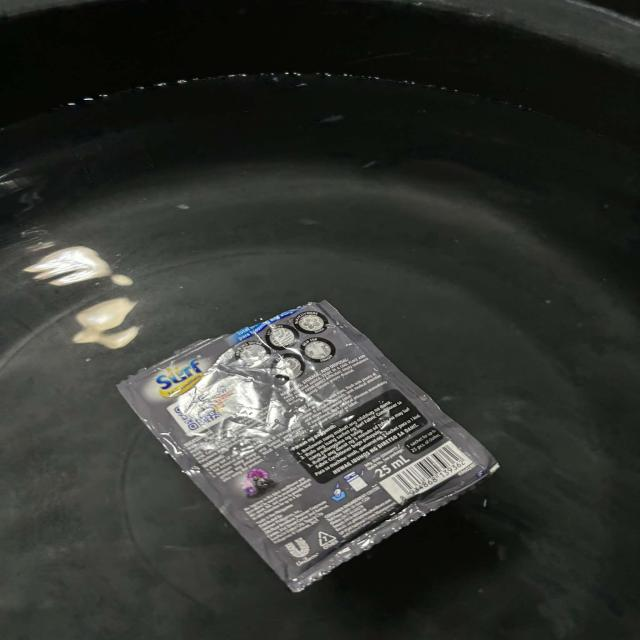Plastic Wrapper: (100, 284, 535, 606)
